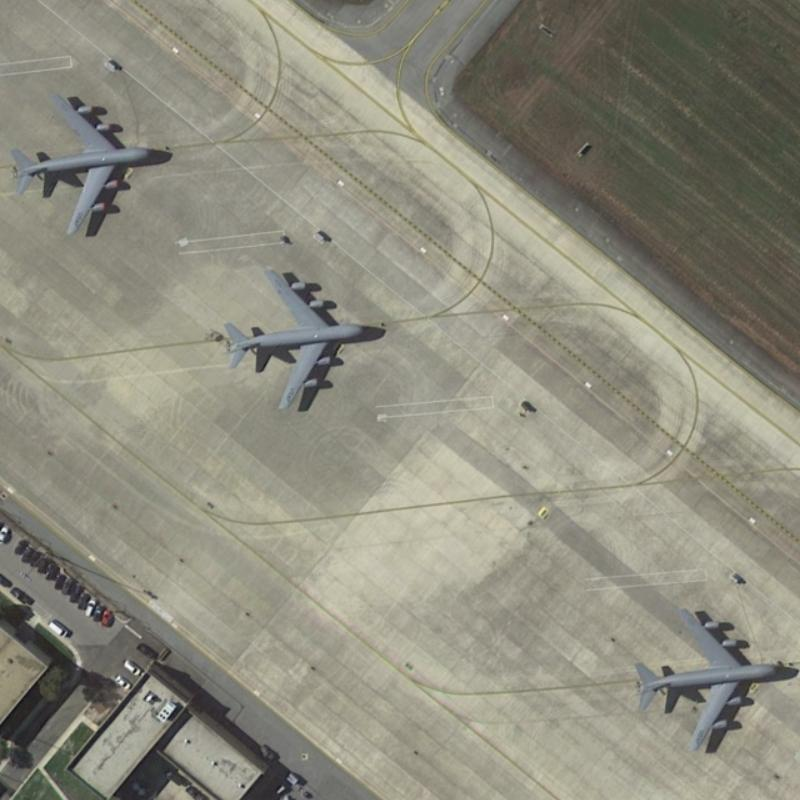A14: (628, 603, 786, 754), (215, 266, 370, 415), (6, 89, 154, 240)
